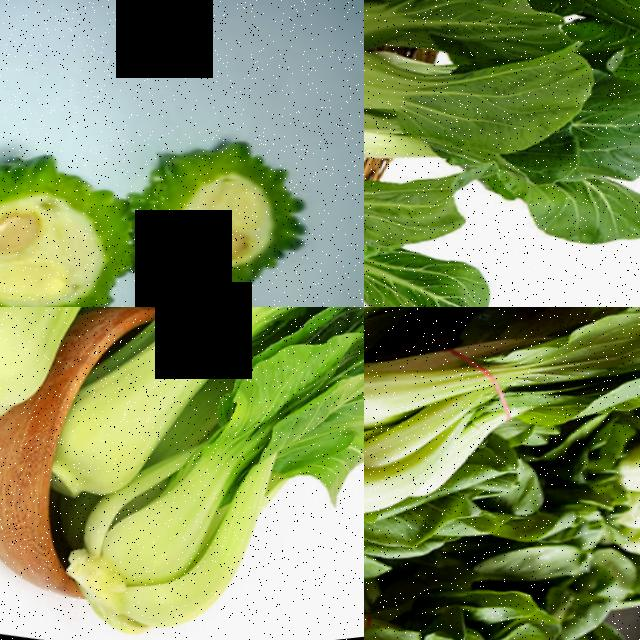bitter gourd: (136, 141, 328, 307), (0, 136, 133, 307)
bok choy: (129, 357, 354, 640), (364, 12, 584, 206), (364, 307, 560, 507), (364, 120, 551, 307), (364, 556, 585, 640), (364, 0, 589, 78)
